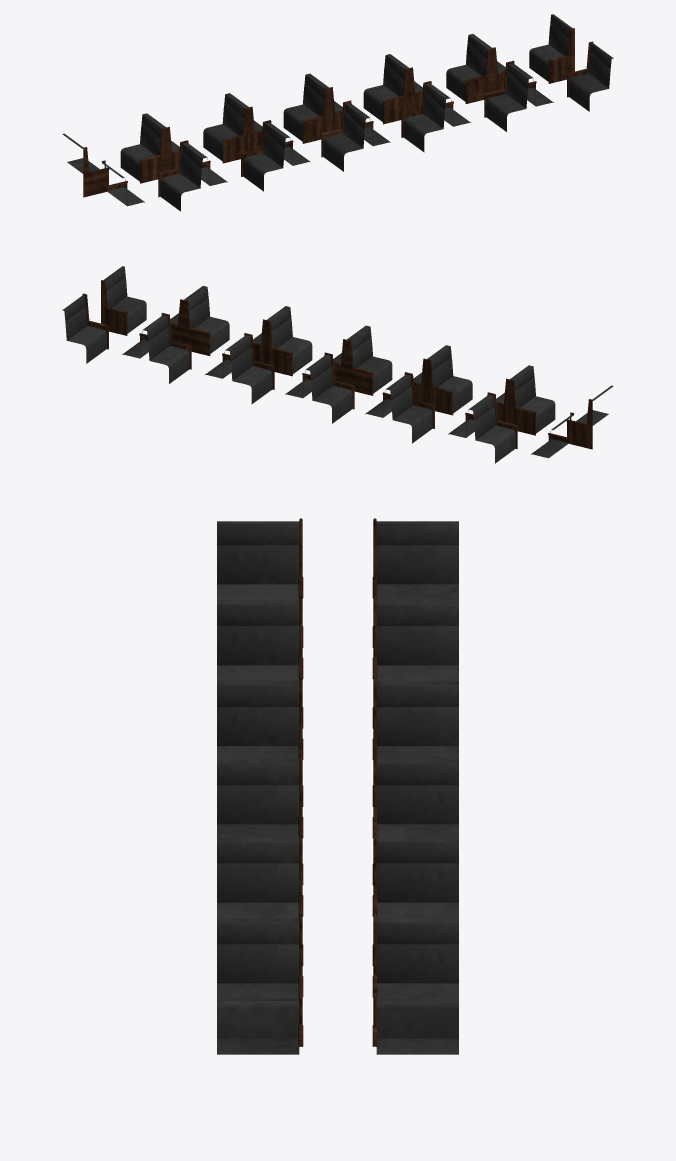
The model's file is carriage_seating.gltf.
The picture shows the model from 3 angles, top to bottom: view 1: azimuth 30°, elevation 25°; view 2: azimuth 150°, elevation 25°; view 3: azimuth 270°, elevation 25°; orthographic projection. The views are drawn at different scales.
Visible parts, largest first — view 1: seating; view 2: seating; view 3: seating.
Boxes of the visible parts, box(x1,y1,x2,y2) form: seating: box(62, 14, 613, 211); seating: box(62, 266, 613, 463); seating: box(217, 518, 458, 1054).
Bounding box in the file's own units: 17.32 × 1.38 × 3.06.
1 material, 1 textured.
